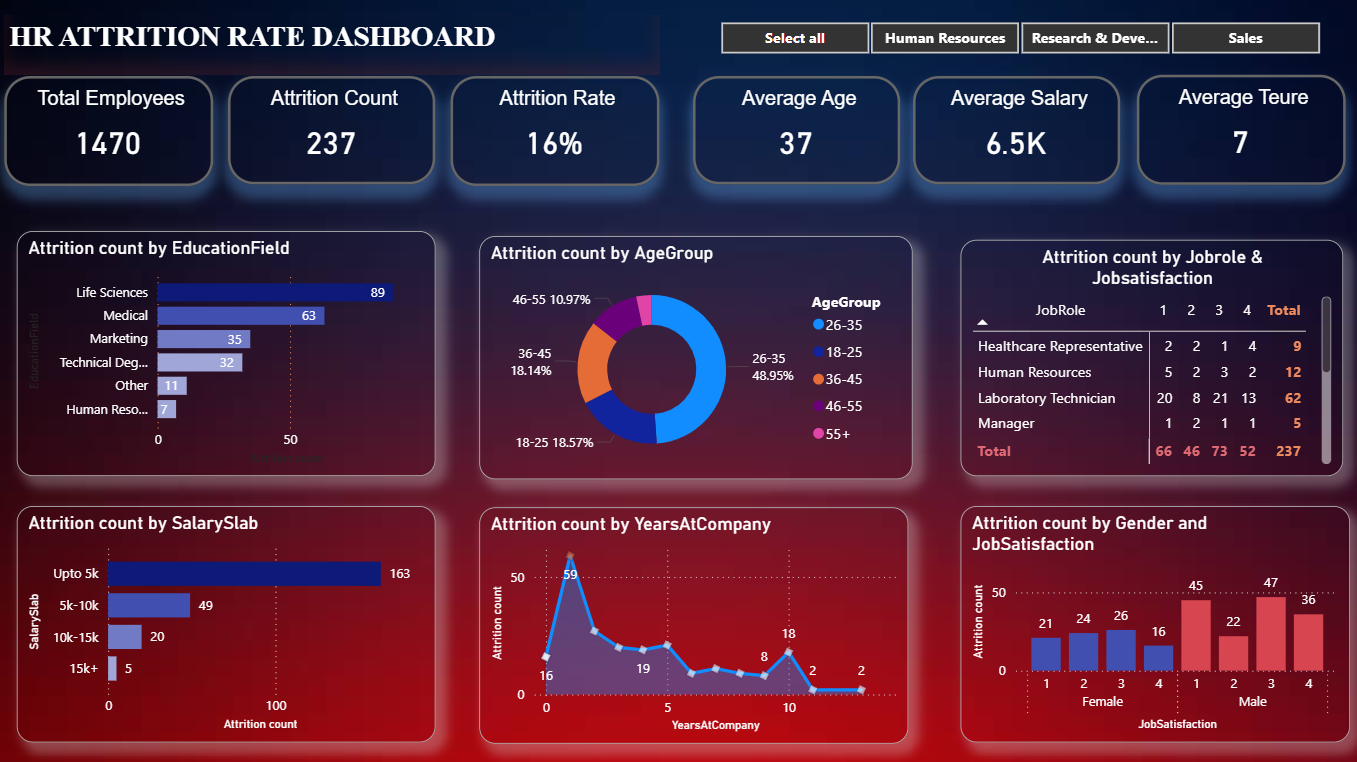

The page's visual inventory and layout, read from the dashboard file:
{"tool":"powerbi","page":{"name":"DashBoard","canvas":[1280,720],"ordinal":0},"visuals":[{"type":"card","title":"Total Employees","fields":{"Values":["DAX Measure.Total employees"]},"box":[10.5,74.4,194.2,102.3],"z":0},{"type":"card","title":"Attrition Count","fields":{"Values":["DAX Measure.Attrition count"]},"box":[218.6,74.4,193,101.2],"z":1000},{"type":"card","title":"Attrition Rate","fields":{"Values":["DAX Measure.Attrition rate"]},"box":[425.6,74.4,194.2,102.3],"z":2000},{"type":"card","title":"Average Age","fields":{"Values":["DAX Measure.Average age"]},"box":[651.2,74.4,193,101.2],"z":3000},{"type":"card","title":"Average Salary","fields":{"Values":["DAX Measure.Average salary"]},"box":[855.8,74.4,193,101.2],"z":4000},{"type":"card","title":"Average Teure","fields":{"Values":["DAX Measure.Average tenure"]},"box":[1064,73.3,194.2,102.3],"z":5000},{"type":"textbox","box":[10.5,17.4,609.3,55.8],"z":6000},{"type":"barChart","fields":{"Category":["HR_Analytics.EducationField"],"Y":["DAX Measure.Attrition count"]},"box":[22.1,218.6,389.5,227.9],"z":7000},{"type":"pivotTable","title":"Attrition count by Jobrole & Jobsatisfaction","fields":{"Rows":["HR_Analytics.JobRole"],"Values":["DAX Measure.Attrition count"],"Columns":["HR_Analytics.JobSatisfaction"]},"box":[900,226.7,356,219.8],"z":8000},{"type":"donutChart","fields":{"Category":["HR_Analytics.AgeGroup"],"Y":["DAX Measure.Attrition count"]},"box":[452.3,223.3,403.5,226.7],"z":9000},{"type":"barChart","fields":{"Category":["HR_Analytics.SalarySlab"],"Y":["DAX Measure.Attrition count"]},"box":[22.1,474.4,389.5,219.8],"z":10000},{"type":"lineChart","fields":{"Category":["HR_Analytics.YearsAtCompany"],"Y":["DAX Measure.Attrition count"]},"box":[452.3,475.6,398.8,219.8],"z":11000},{"type":"slicer","fields":{"Values":["HR_Analytics.Department"]},"box":[651.2,17.4,607,43],"z":12000},{"type":"clusteredColumnChart","fields":{"Category":["HR_Analytics.Gender","HR_Analytics.JobSatisfaction"],"Y":["DAX Measure.Attrition count"]},"box":[900,474.4,362.8,219.8],"z":13000}]}

Visuals, with their boxes in screenshot pixels (x1, y1, x2, y2), scaled from the page's 1280x720 canvas onto the 1357x762 screenshot:
"Total Employees" card: [left=11, top=79, right=217, bottom=187]
"Attrition Count" card: [left=232, top=79, right=436, bottom=186]
"Attrition Rate" card: [left=451, top=79, right=657, bottom=187]
"Average Age" card: [left=690, top=79, right=895, bottom=186]
"Average Salary" card: [left=907, top=79, right=1112, bottom=186]
"Average Teure" card: [left=1128, top=78, right=1334, bottom=186]
textbox: [left=11, top=18, right=657, bottom=77]
barChart - HR_Analytics.EducationField x DAX Measure.Attrition count: [left=23, top=231, right=436, bottom=473]
"Attrition count by Jobrole & Jobsatisfaction" pivotTable: [left=954, top=240, right=1332, bottom=473]
donutChart - HR_Analytics.AgeGroup x DAX Measure.Attrition count: [left=480, top=236, right=907, bottom=476]
barChart - HR_Analytics.SalarySlab x DAX Measure.Attrition count: [left=23, top=502, right=436, bottom=735]
lineChart - HR_Analytics.YearsAtCompany x DAX Measure.Attrition count: [left=480, top=503, right=902, bottom=736]
slicer - HR_Analytics.Department: [left=690, top=18, right=1334, bottom=64]
clusteredColumnChart - HR_Analytics.Gender x HR_Analytics.JobSatisfaction: [left=954, top=502, right=1339, bottom=735]
